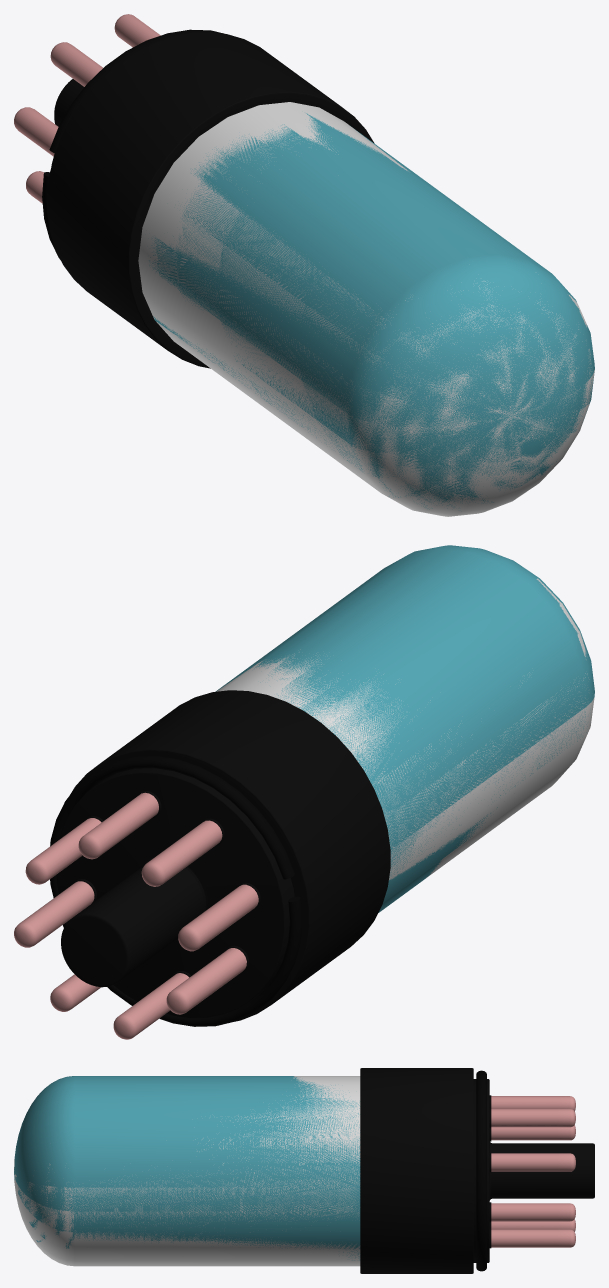
3 renders of one model, top to bottom at view 1: azimuth 30°, elevation 25°; view 2: azimuth 150°, elevation 25°; view 3: azimuth 270°, elevation 25°, orthographic. The views are drawn at different scales.
Parts seen in each view (by area): view 1: tube1_LOD0, tube1glass_LOD0; view 2: tube1_LOD0, tube1glass_LOD0; view 3: tube1_LOD0, tube1glass_LOD0.
Boxes of the visible parts, box(x1,y1,x2,y2) form: tube1_LOD0: box(14, 14, 594, 509); tube1glass_LOD0: box(138, 102, 594, 516); tube1_LOD0: box(14, 545, 594, 1039); tube1glass_LOD0: box(216, 578, 594, 879); tube1_LOD0: box(14, 1068, 594, 1273); tube1glass_LOD0: box(14, 1076, 360, 1266).
Size of what is drawn, in the model's own units: 1.52 by 1.52 by 4.3.
